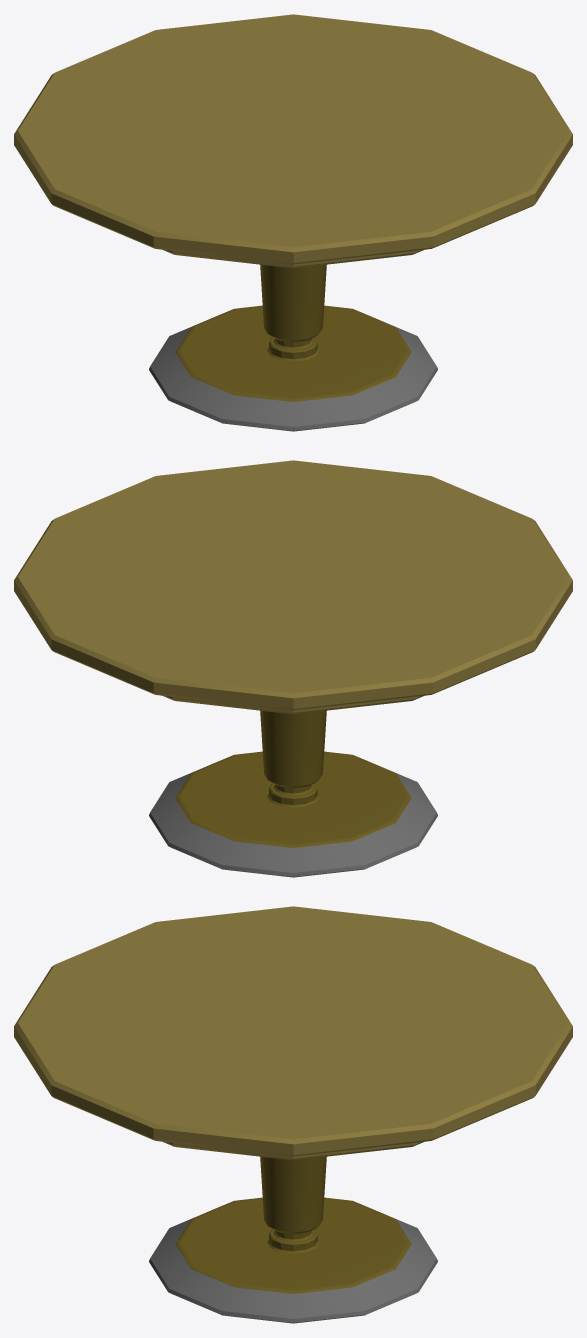
Rendered from SM_Tabel_4.fbx.
The picture shows the model from 3 angles, top to bottom: view 1: azimuth 30°, elevation 25°; view 2: azimuth 150°, elevation 25°; view 3: azimuth 270°, elevation 25°; orthographic projection.
Visible parts, largest first — view 1: Table_4; view 2: Table_4; view 3: Table_4.
Boxes of the visible parts, <box> form: Table_4: <box>14,14,572,431</box>; Table_4: <box>14,460,572,877</box>; Table_4: <box>14,906,572,1323</box>.
Size of the model in its own units: 2 by 0.9508 by 2.
